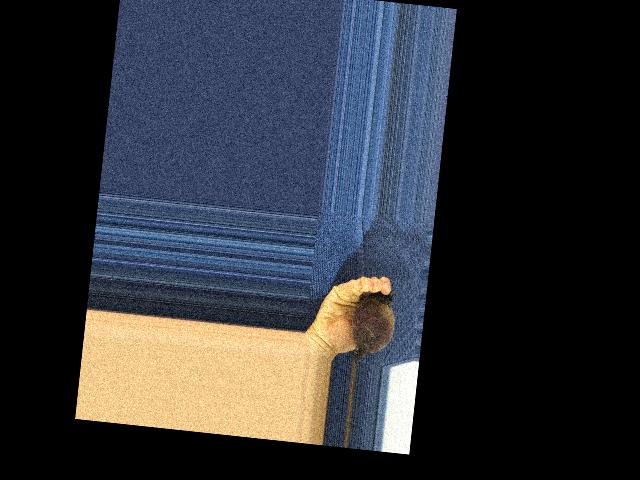beet: (347, 284, 397, 366)
